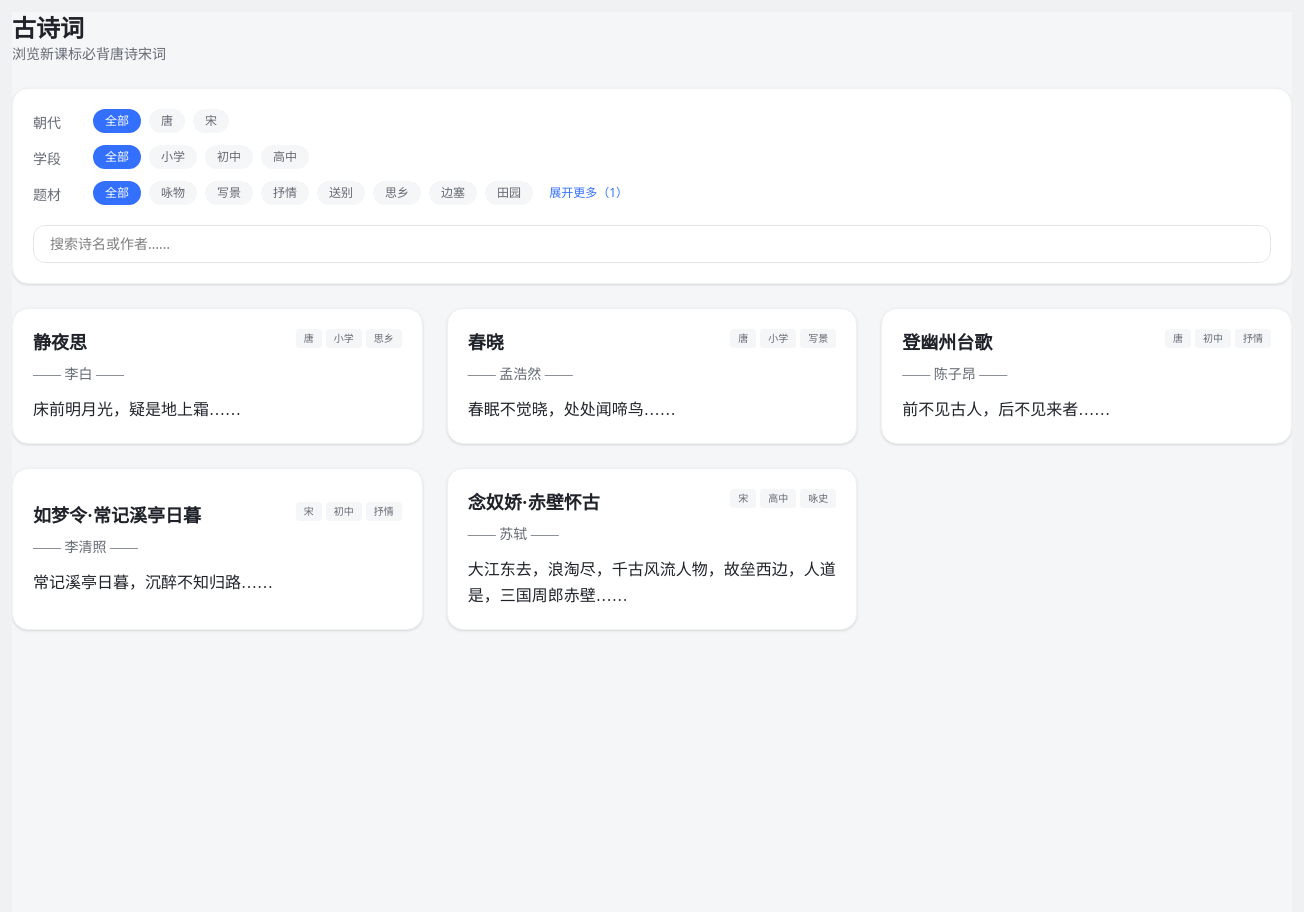
PoetryView › clicking a poem card opens detail view with 返回列表
Click the heading "静夜思": (60, 343) [33,329,87,357]
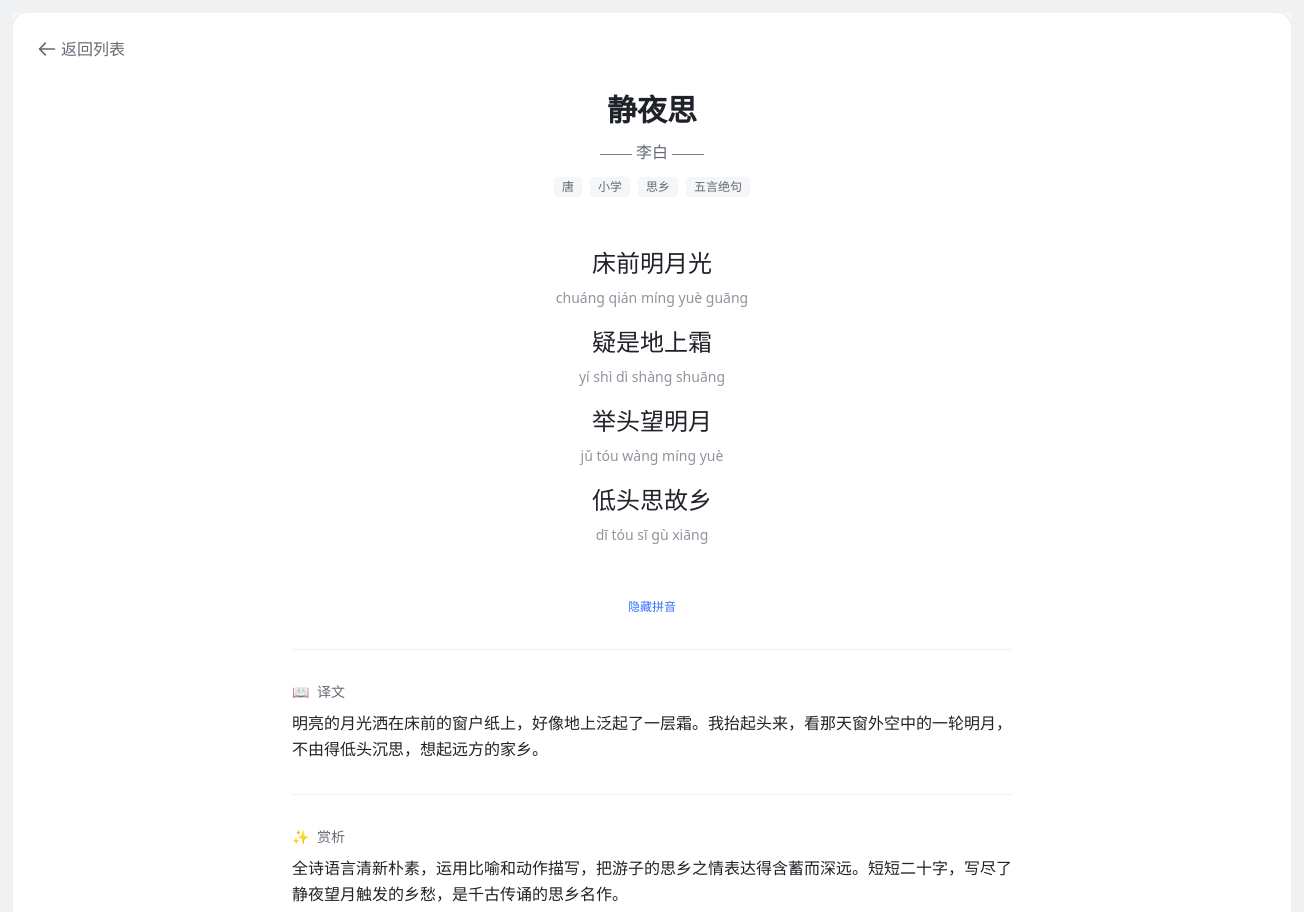
Expected: the text "床前明月光" is shown, [592,251,712,277]
Expected: the button "返回列表" is shown, [37,37,125,61]
